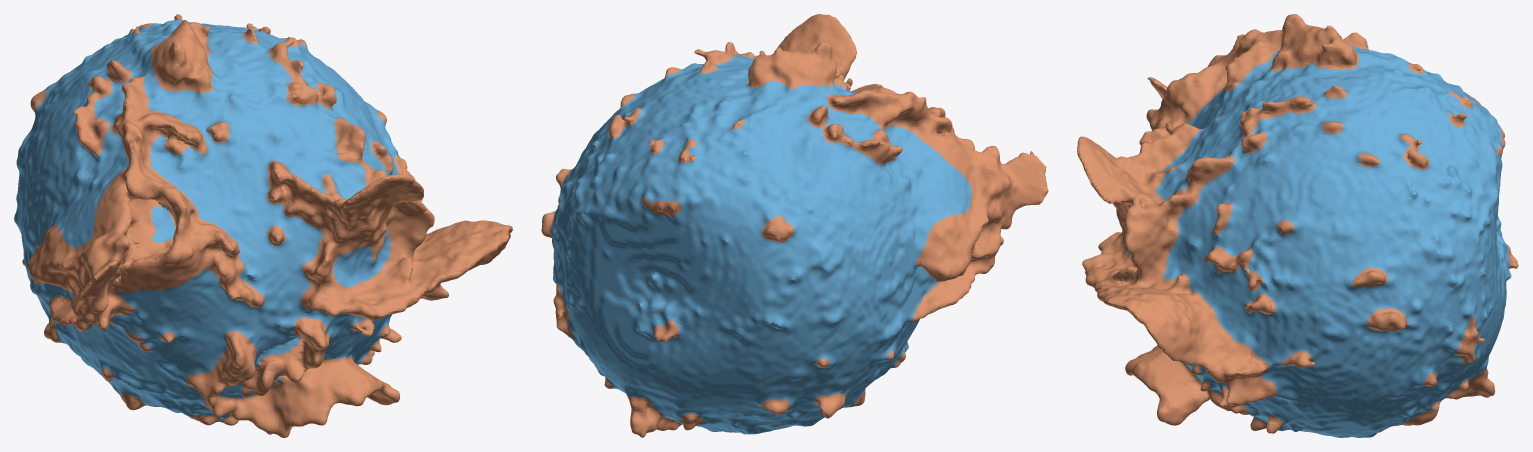
3 views of the same model, side by side, from view 1: azimuth 30°, elevation 25°; view 2: azimuth 150°, elevation 25°; view 3: azimuth 270°, elevation 25° (orthographic). The views are drawn at different scales.
Bounding box in the file's own units: 179 × 158 × 167.
